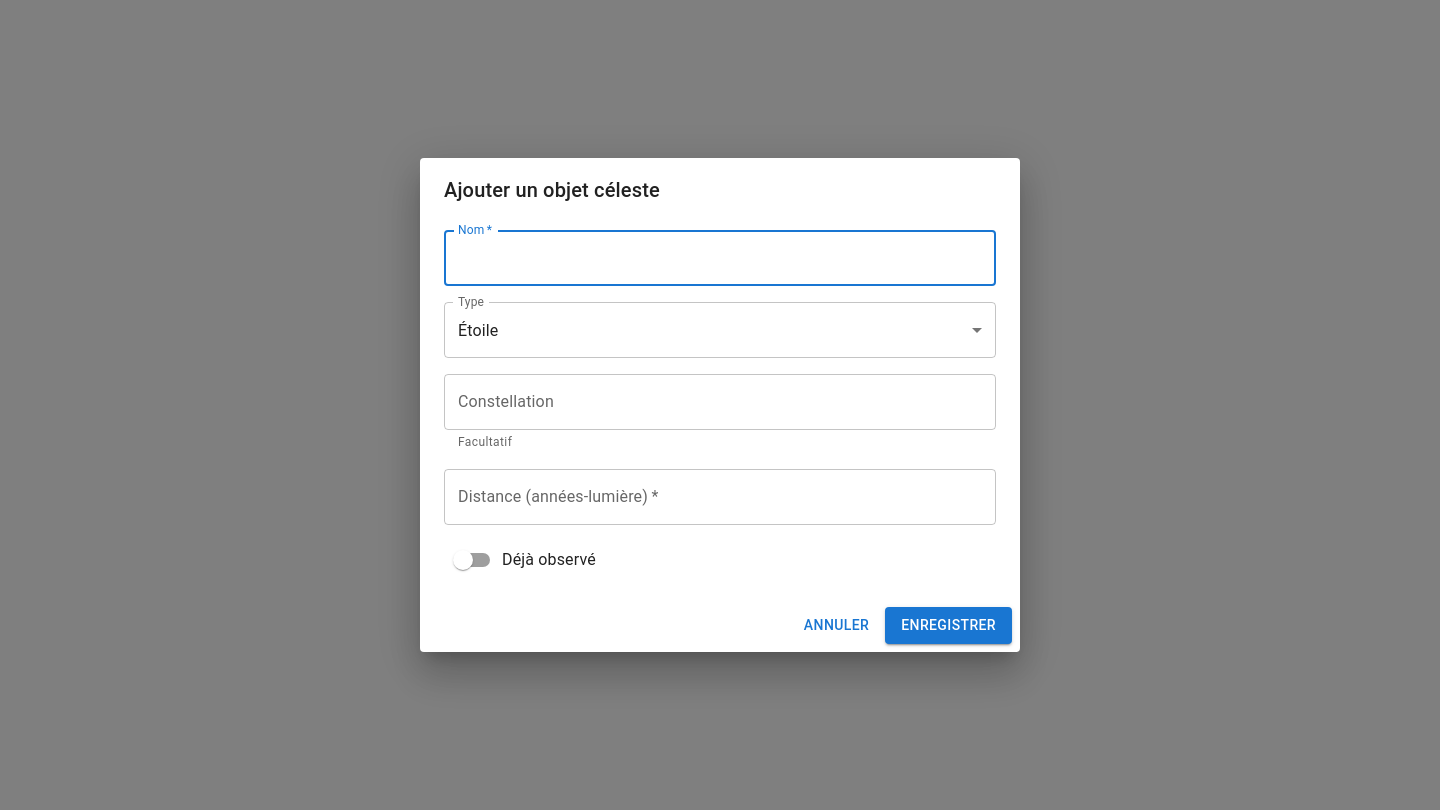
it: CelestialFormDialog › affiche les erreurs et n'envoie rien si les champs obligatoires sont vides
Click the button "Enregistrer" at (949, 625), box [885, 607, 1012, 644]
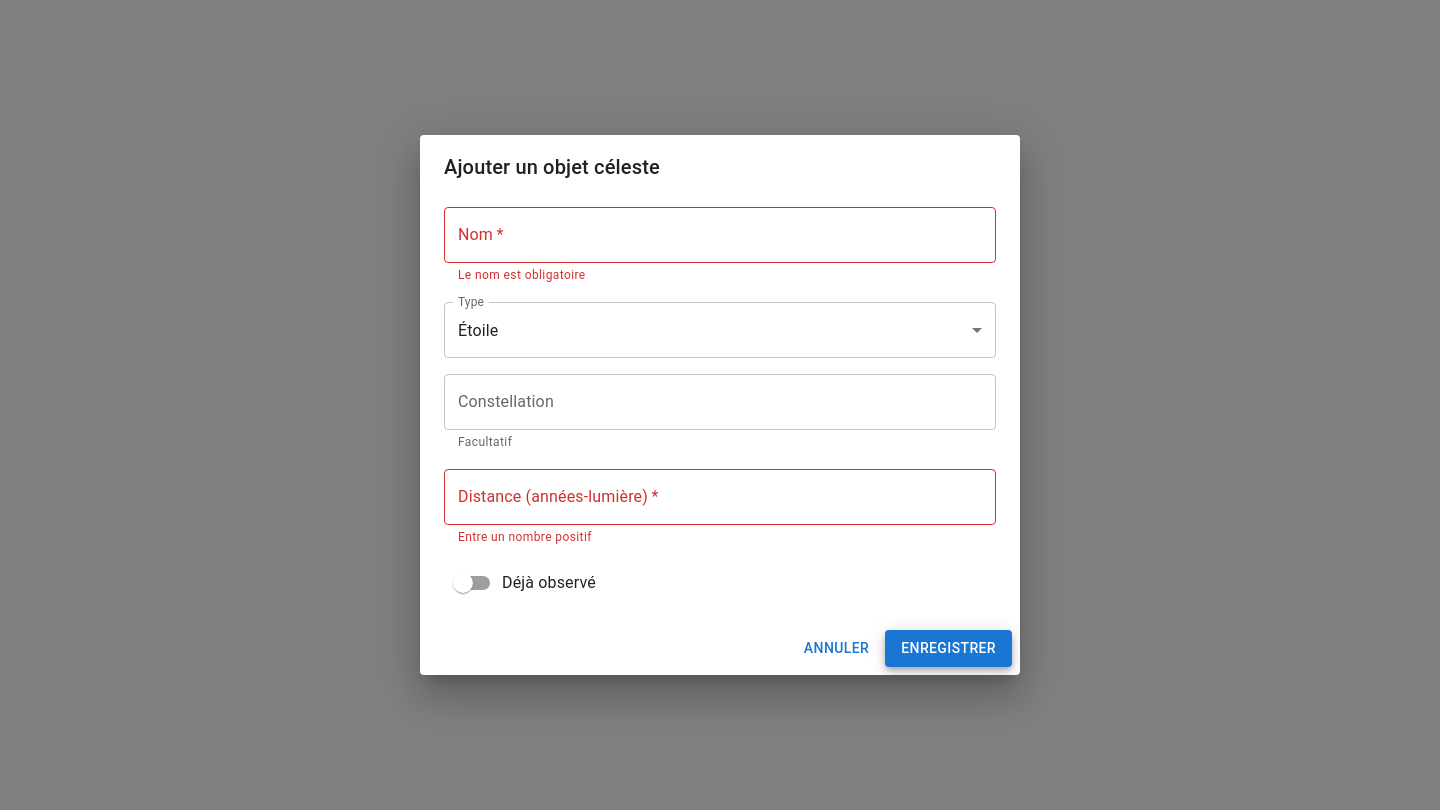
Check: the text "Le nom est obligatoire" is shown, box [458, 268, 586, 282]
Check: the text "Entre un nombre positif" is shown, box [458, 530, 592, 544]
